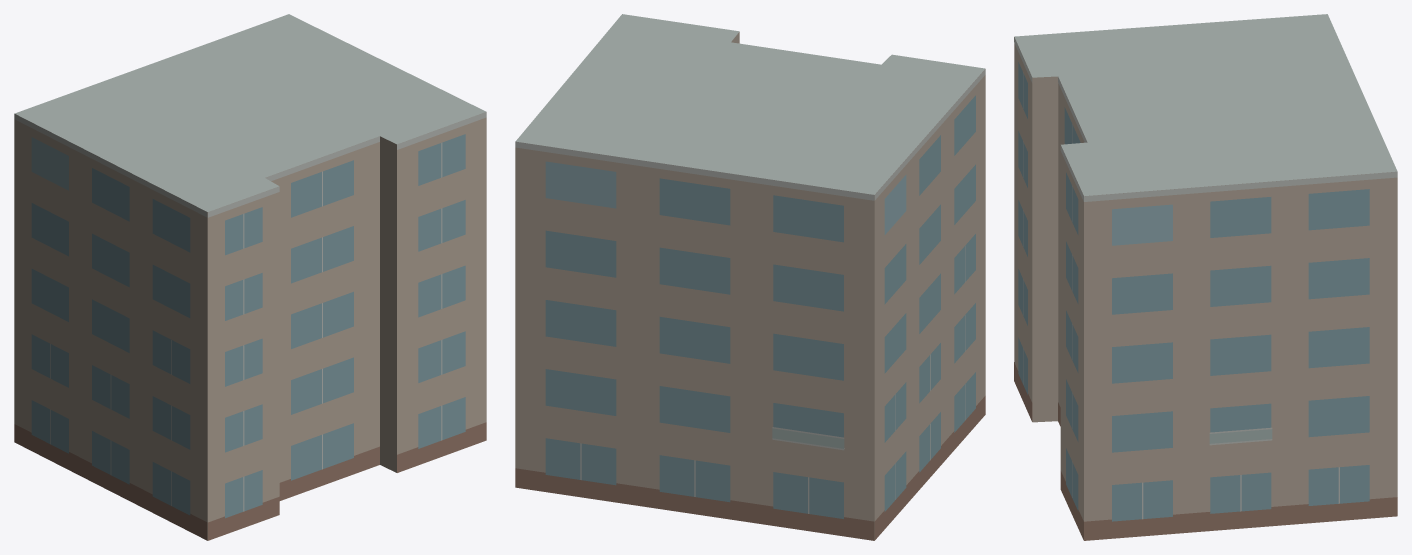
File: survey-upis-32708458.glb
3 renders of one model, left to right at view 1: azimuth 30°, elevation 25°; view 2: azimuth 150°, elevation 25°; view 3: azimuth 270°, elevation 25°, orthographic. The views are drawn at different scales.
Parts seen in each view (by area): view 1: survey-upis-32708458.tmp; view 2: survey-upis-32708458.tmp; view 3: survey-upis-32708458.tmp.
Boxes of the visible parts, <box> form: survey-upis-32708458.tmp: <box>14,14,486,540</box>; survey-upis-32708458.tmp: <box>515,14,985,540</box>; survey-upis-32708458.tmp: <box>1014,14,1397,540</box>.
Size of the model in its own units: 16.1 by 14.2 by 14.33.
